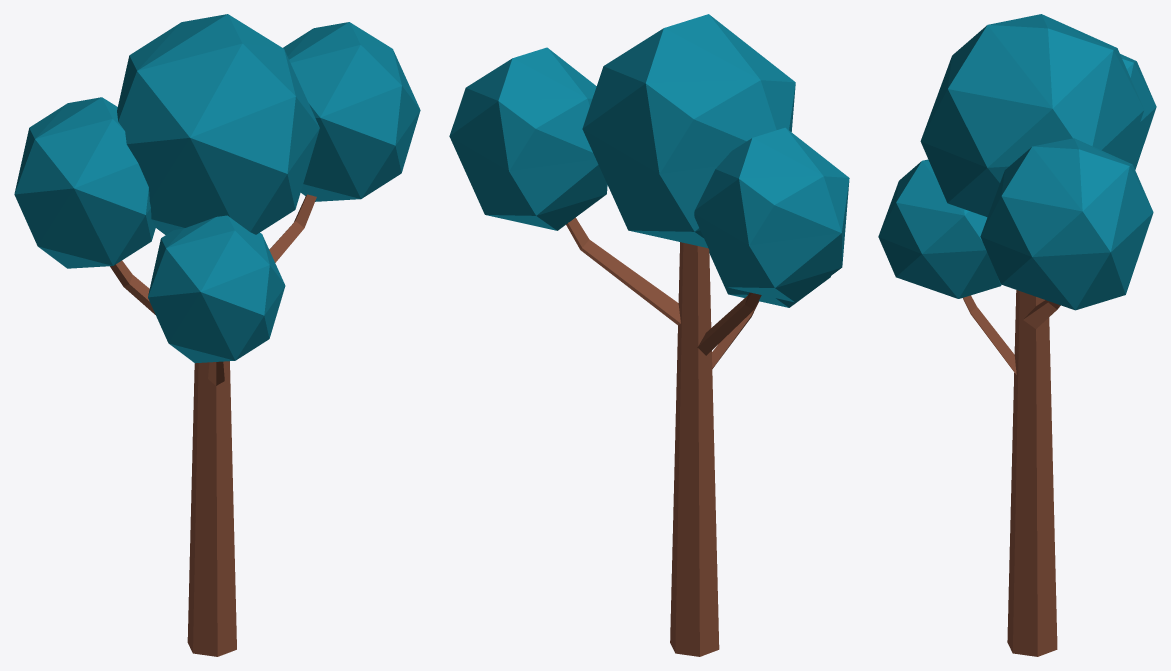
Rendered from Tree_35_summer_blue_mat.fbx.
3 views of the same model, side by side, from view 1: azimuth 30°, elevation 25°; view 2: azimuth 150°, elevation 25°; view 3: azimuth 270°, elevation 25° (orthographic).
Visible parts, largest first — view 1: Tree_35_summer_blue_mat; view 2: Tree_35_summer_blue_mat; view 3: Tree_35_summer_blue_mat.
Part boxes in pixels (x1,y1,x2,y2): Tree_35_summer_blue_mat: [14, 14, 420, 656]; Tree_35_summer_blue_mat: [449, 14, 849, 656]; Tree_35_summer_blue_mat: [878, 14, 1156, 656].
Size of the model in its own units: 423 by 658 by 264.
